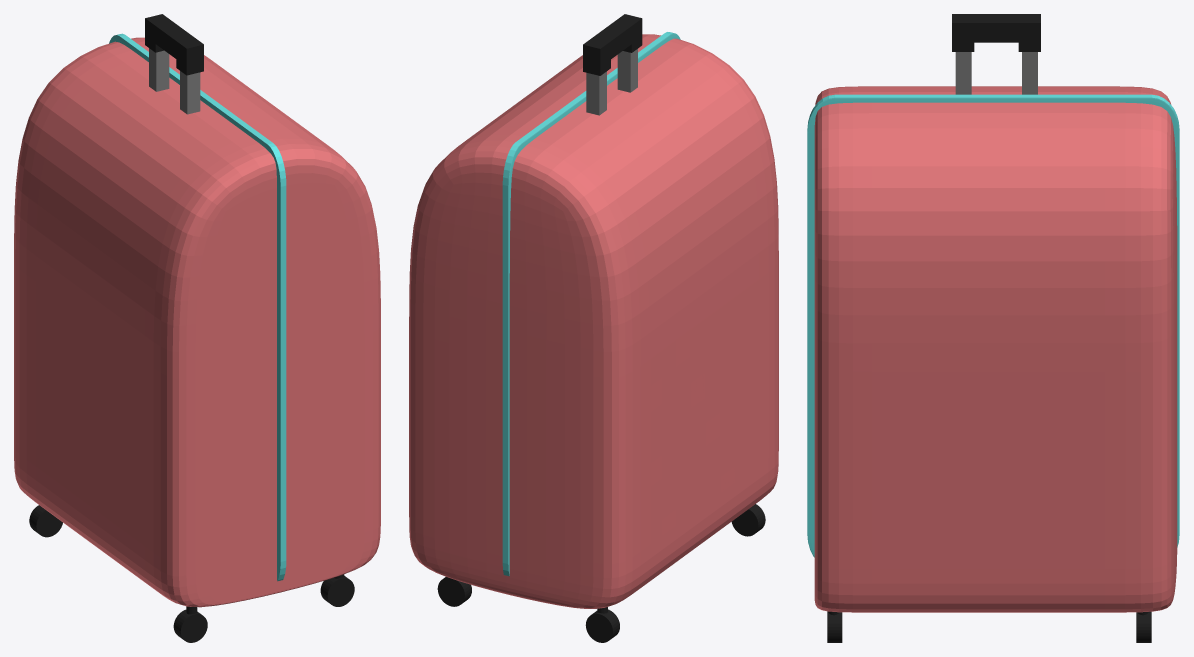
File: BabyCase.fbx
3 renders of one model, left to right at view 1: azimuth 30°, elevation 25°; view 2: azimuth 150°, elevation 25°; view 3: azimuth 270°, elevation 25°, orthographic. The views are drawn at different scales.
Parts seen in each view (by area): view 1: Cylinder.002; view 2: Cylinder.002; view 3: Cylinder.002.
Part boxes in pixels (box(x1,y1,x2,y2)): Cylinder.002: box(14, 14, 380, 642); Cylinder.002: box(409, 14, 778, 642); Cylinder.002: box(807, 14, 1179, 642).
Bounding box in the file's own units: 148 × 350 × 205.
